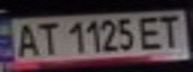1: (81, 17, 103, 53), (63, 18, 84, 54)
2: (100, 16, 121, 53)
5: (115, 16, 139, 52)
A: (9, 20, 42, 60)
E: (136, 13, 166, 51)
T: (154, 11, 187, 48), (33, 19, 60, 56)
